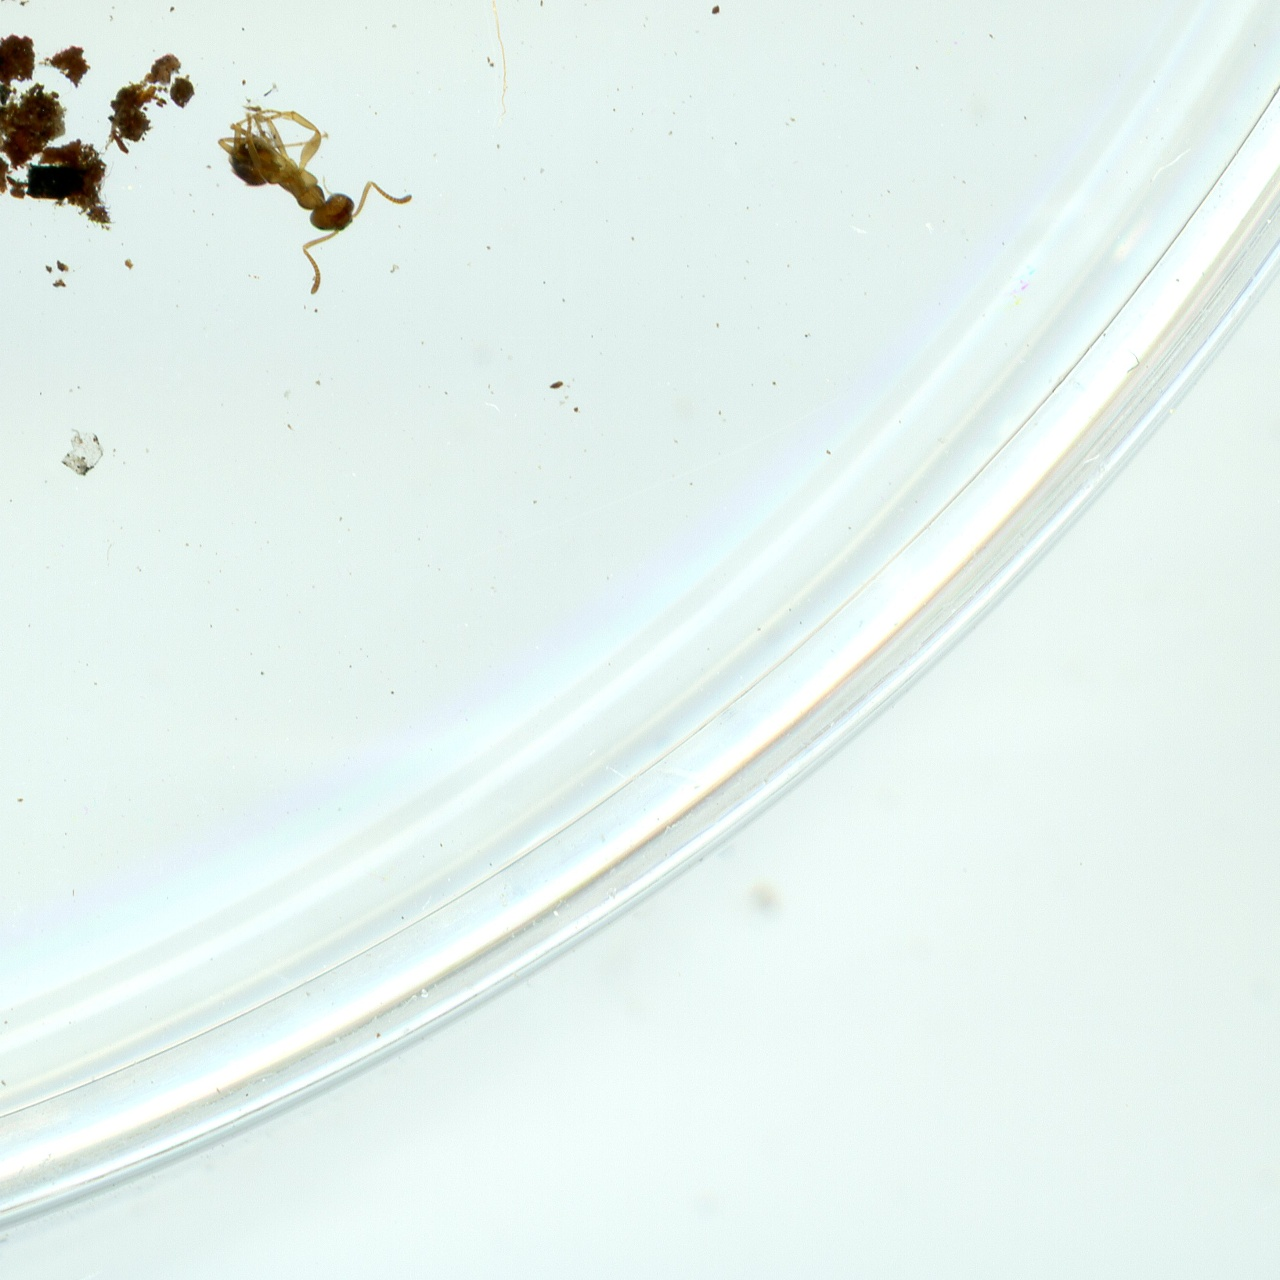arthropod: (181, 65, 419, 303)
